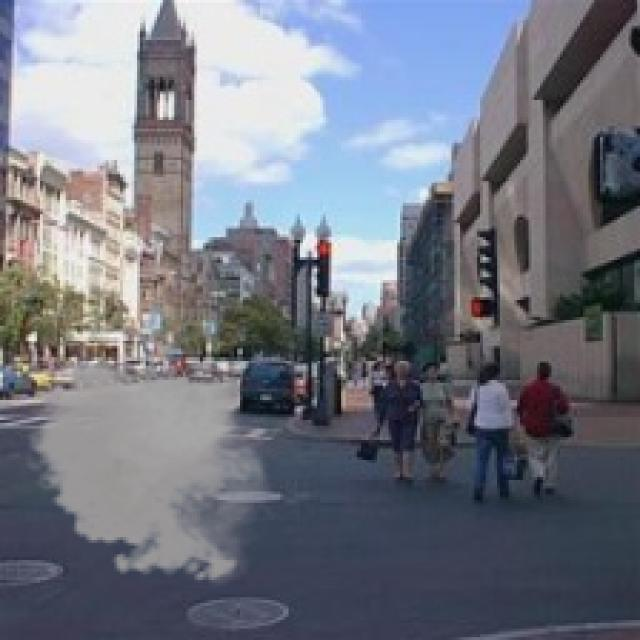smoke: (20, 354, 280, 589)
